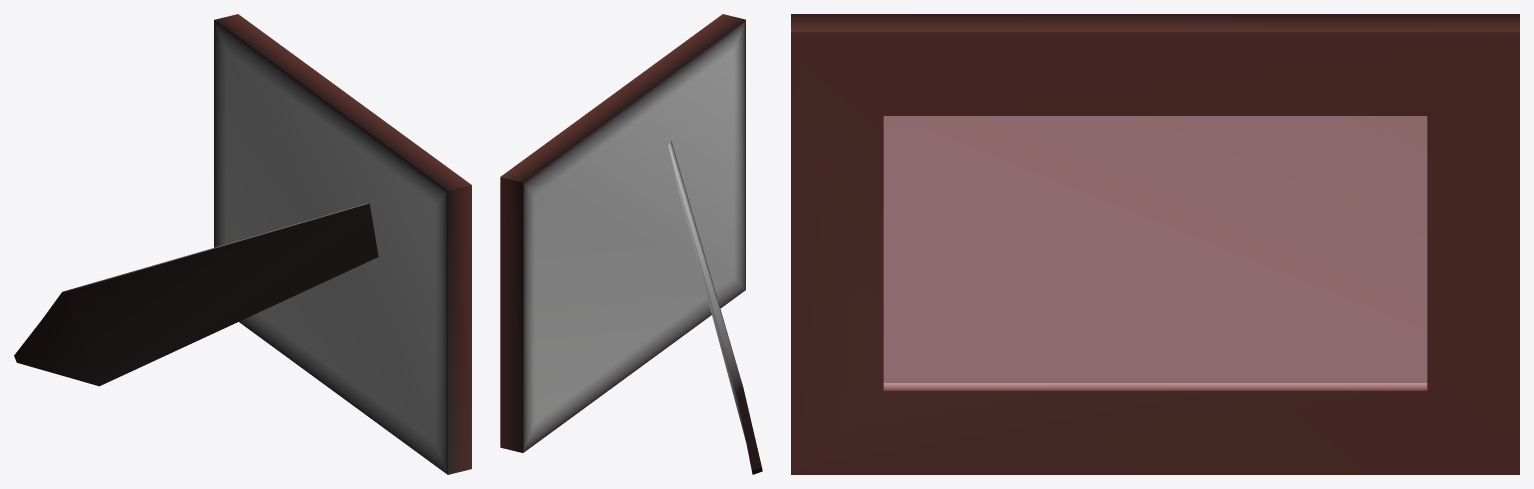
Rendered from Photo_Andrea 1.fbx.
3 views of the same model, side by side, from view 1: azimuth 30°, elevation 25°; view 2: azimuth 150°, elevation 25°; view 3: azimuth 270°, elevation 25° (orthographic). The views are drawn at different scales.
Visible parts, largest first — view 1: PhotoFrame; view 2: PhotoFrame; view 3: PhotoFrame.
Part boxes in pixels (<box>): PhotoFrame: <box>14,14,471,474</box>; PhotoFrame: <box>500,14,762,474</box>; PhotoFrame: <box>791,14,1519,474</box>.
Size of the model in its own units: 413 by 450 by 671.
